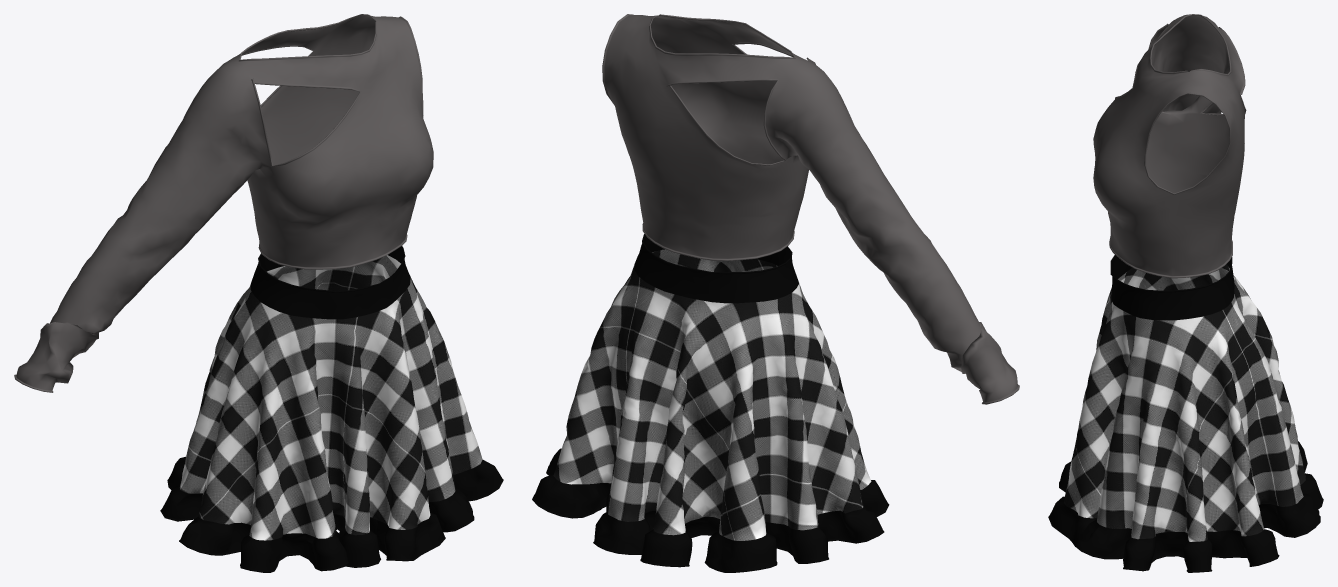
The model's file is casual_clothes_crop_top_and_skirt.glb.
The picture shows the model from 3 angles, left to right: view 1: azimuth 30°, elevation 25°; view 2: azimuth 150°, elevation 25°; view 3: azimuth 270°, elevation 25°; orthographic projection. The views are drawn at different scales.
Parts seen in each view (by area): view 1: Object_4, Object_2, Object_3; view 2: Object_2, Object_4, Object_3; view 3: Object_2, Object_4, Object_3.
Part boxes in pixels (x1,y1,x2,y2): Object_4: (14,14,433,392); Object_2: (180,255,482,540); Object_3: (160,246,503,572); Object_2: (553,249,871,540); Object_4: (602,14,1019,404); Object_3: (532,234,889,572); Object_2: (1064,264,1305,541); Object_4: (1093,14,1246,278); Object_3: (1048,255,1323,572).
Size of the model in its own units: 80.81 by 83.27 by 43.23.
3 materials, 1 textured.
